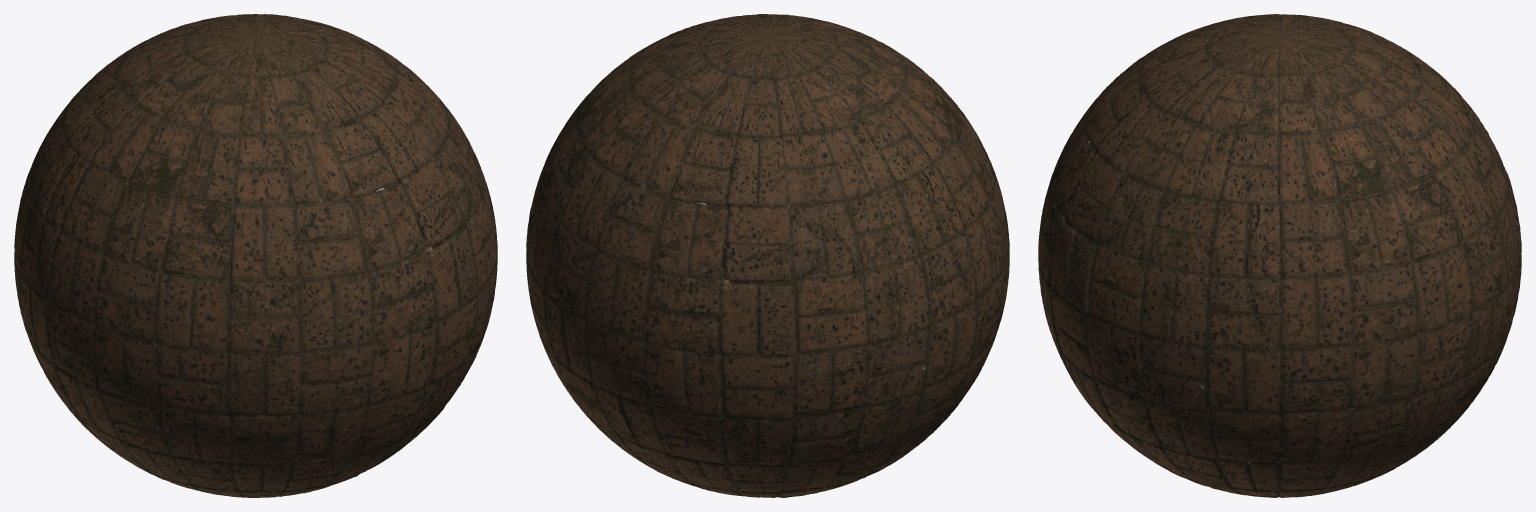
File: brick_villa_floor_1k.gltf
3 views of the same model, side by side, from view 1: azimuth 30°, elevation 25°; view 2: azimuth 150°, elevation 25°; view 3: azimuth 270°, elevation 25° (orthographic).
Parts seen in each view (by area): view 1: sphere_gltf; view 2: sphere_gltf; view 3: sphere_gltf.
Boxes of the visible parts, box(x1,y1,x2,y2) form: sphere_gltf: box(14, 14, 497, 497); sphere_gltf: box(526, 14, 1009, 497); sphere_gltf: box(1038, 14, 1521, 497).
Size of the model in its own units: 2.11 by 2.11 by 2.11.
Materials: 1 (1 with a texture image).
